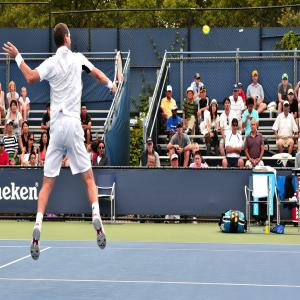TennisBall: (203, 26, 211, 34)
